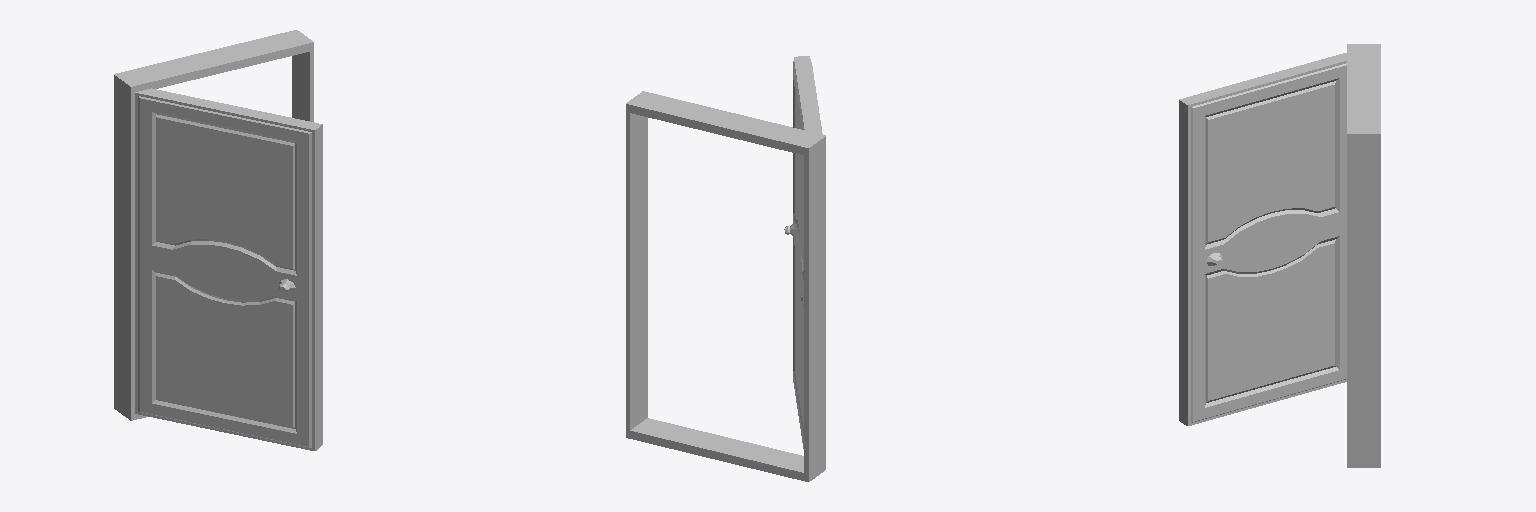
File: drzwiok_000018.obj
3 renders of one model, left to right at view 1: azimuth 30°, elevation 25°; view 2: azimuth 150°, elevation 25°; view 3: azimuth 270°, elevation 25°, orthographic.
Parts seen in each view (by area): view 1: Door_4.001_Cube.001, Kostka; view 2: Kostka, Door_4.001_Cube.001; view 3: Door_4.001_Cube.001, Kostka.
Boxes of the visible parts, box(x1,y1,x2,y2) form: Door_4.001_Cube.001: box(135, 88, 322, 450); Kostka: box(114, 30, 313, 420); Kostka: box(626, 91, 825, 481); Door_4.001_Cube.001: box(784, 56, 822, 448); Door_4.001_Cube.001: box(1179, 53, 1346, 425); Kostka: box(1347, 44, 1380, 467).
Bounding box in the file's own units: 0.7416 × 1.29 × 0.7102.